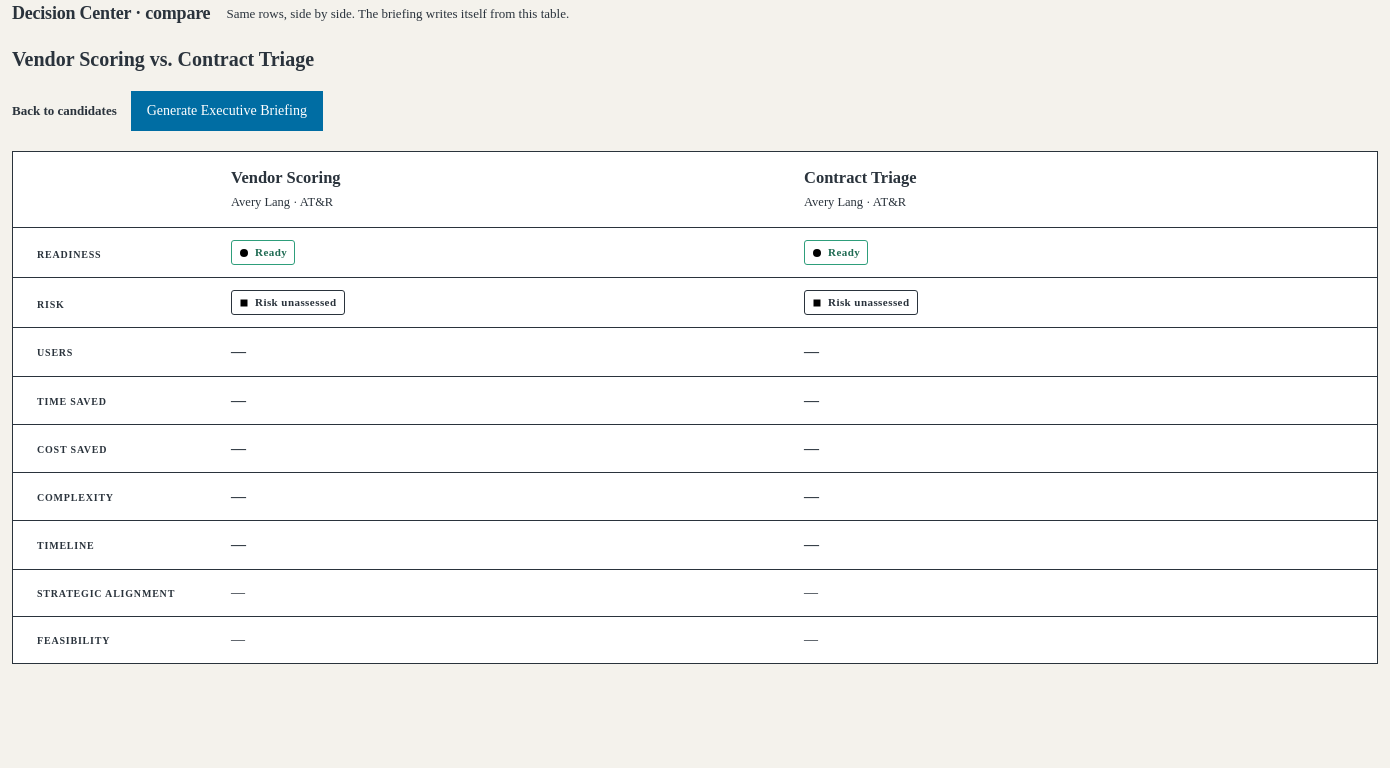
Test: the Decision Center briefing in the report › offers Add to portfolio report only once a briefing exists
The image size is (1390, 768).
What coordinates should you click on to do the following:
click the button "Generate Executive Briefing"
I would click on:
 (227, 111)
Its box is [131,91,323,131].
(page scrolled)
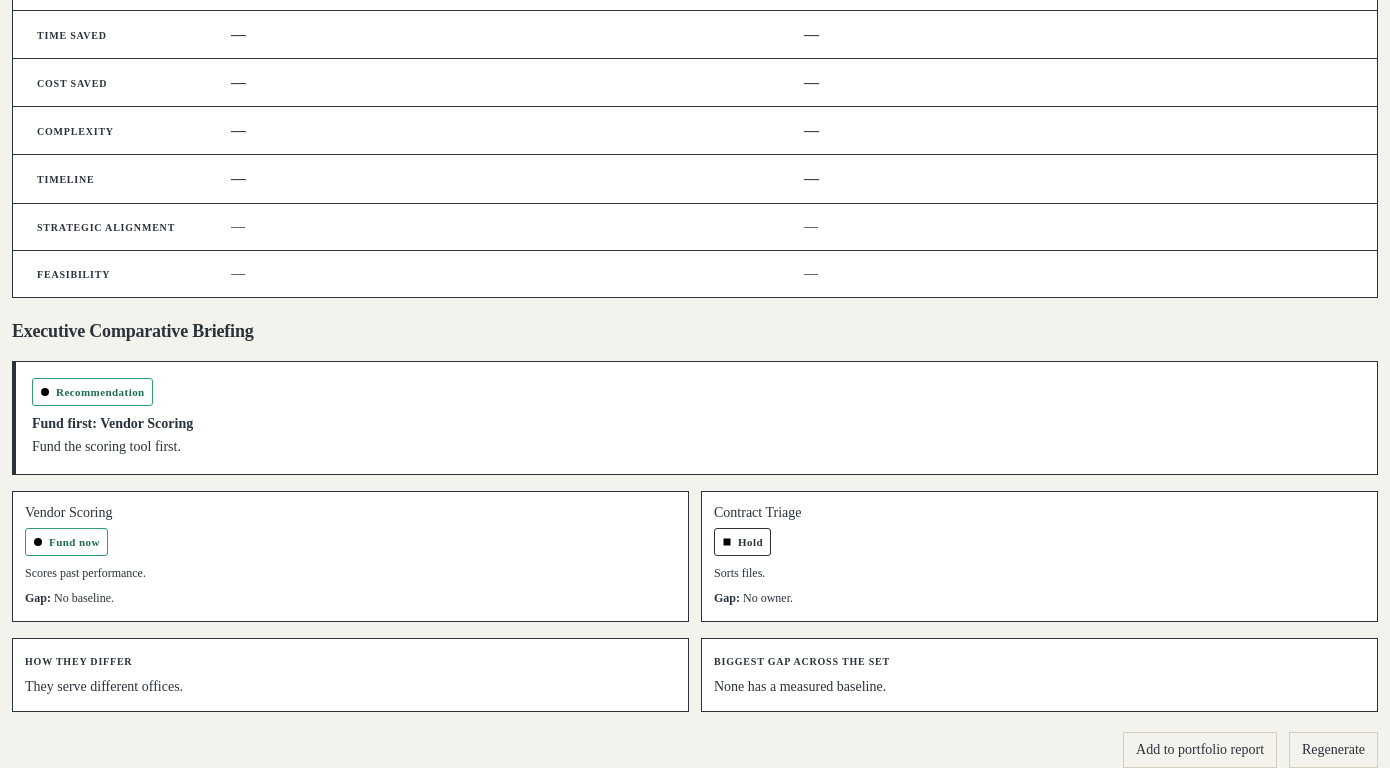
Expected: the button "Add to portfolio report" is shown, [1123,732,1277,767]
